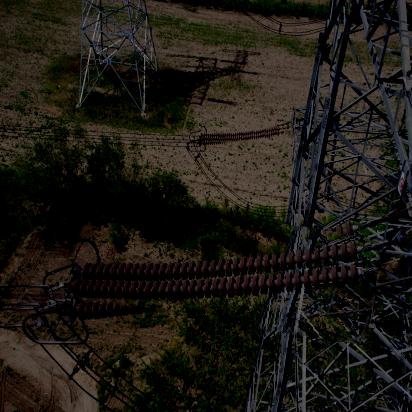insulator: (71, 205, 382, 336), (202, 122, 286, 148)
